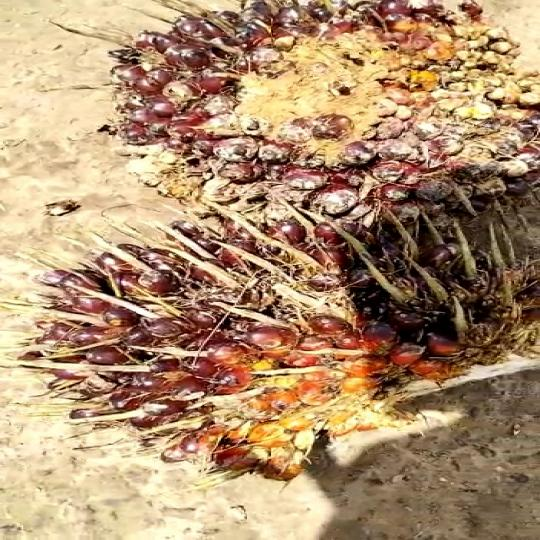kurang masak: (17, 219, 540, 478), (68, 0, 538, 228)
